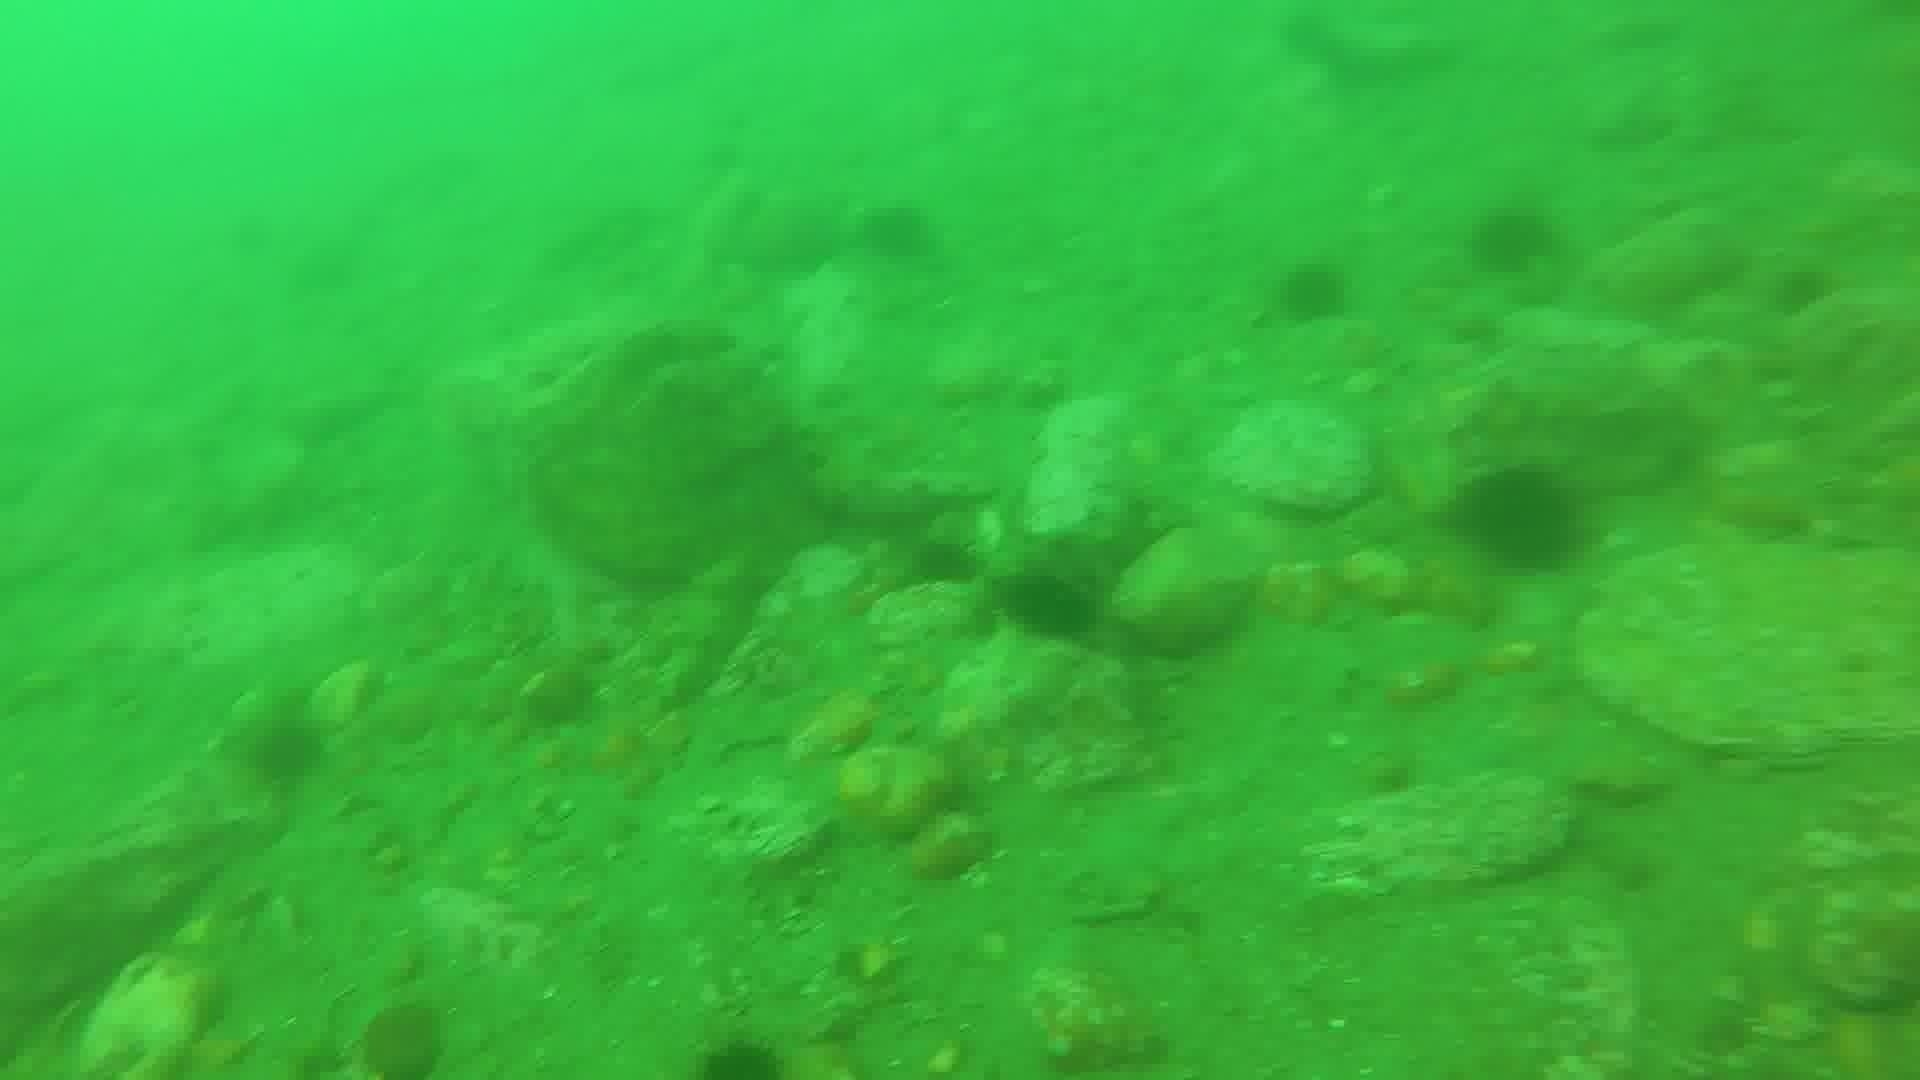echinus: (1451, 462, 1590, 576), (998, 564, 1102, 647), (353, 998, 451, 1077), (1466, 202, 1559, 280), (244, 713, 328, 793), (857, 198, 939, 268), (1273, 258, 1353, 328), (905, 533, 981, 593), (695, 1031, 789, 1080), (1766, 261, 1837, 320)
